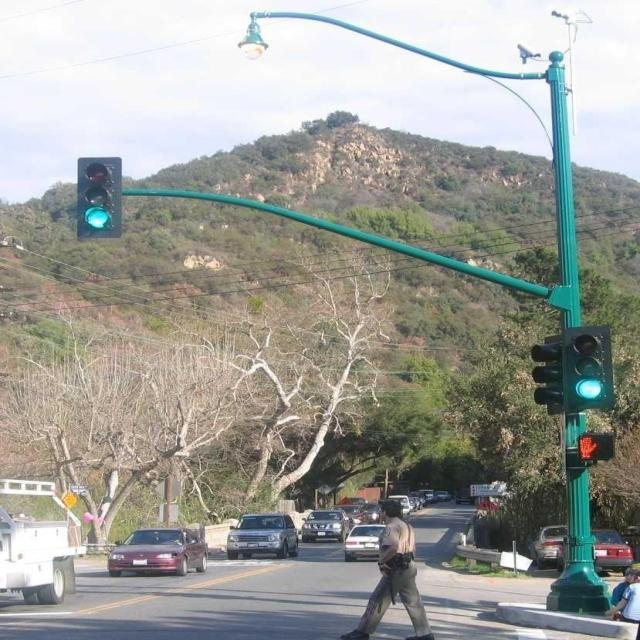Traffic Light -Green-: (569, 330, 608, 406), (80, 157, 114, 234)
